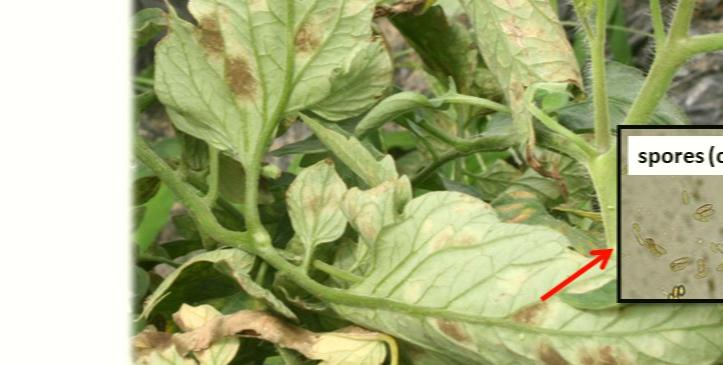Tomato mold leaf: (336, 175, 723, 365), (152, 0, 381, 172), (391, 0, 581, 147), (276, 156, 354, 256)
